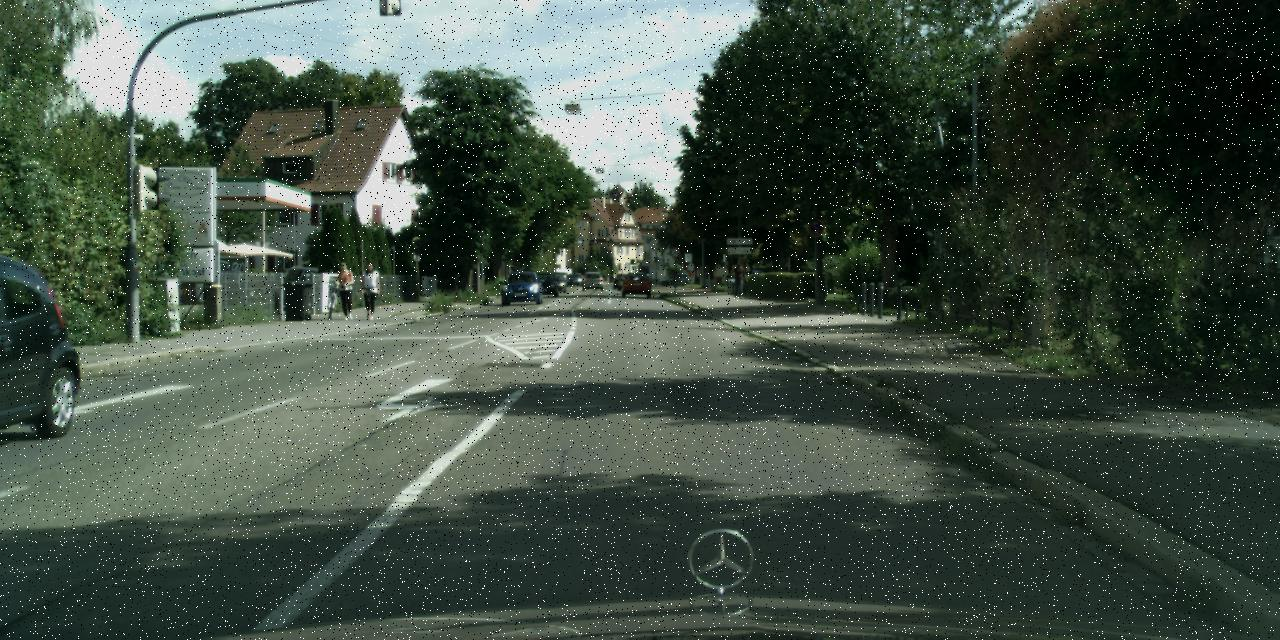ped: (333, 261, 356, 319), (359, 262, 382, 318)
